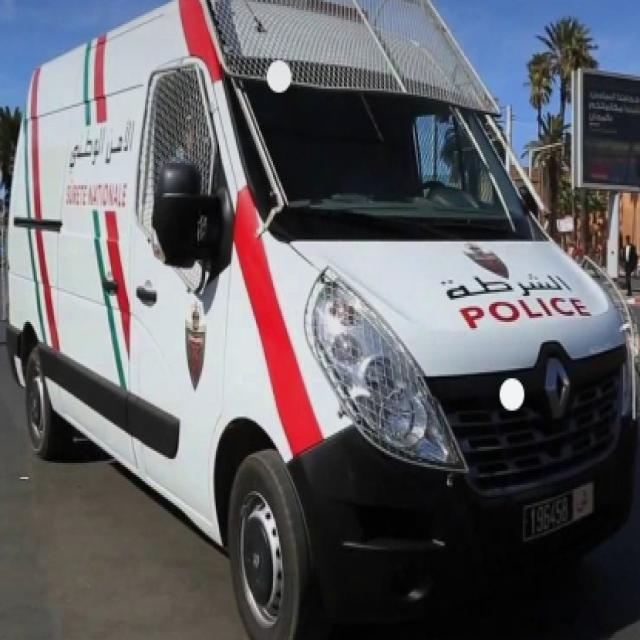police: (13, 0, 625, 638)
